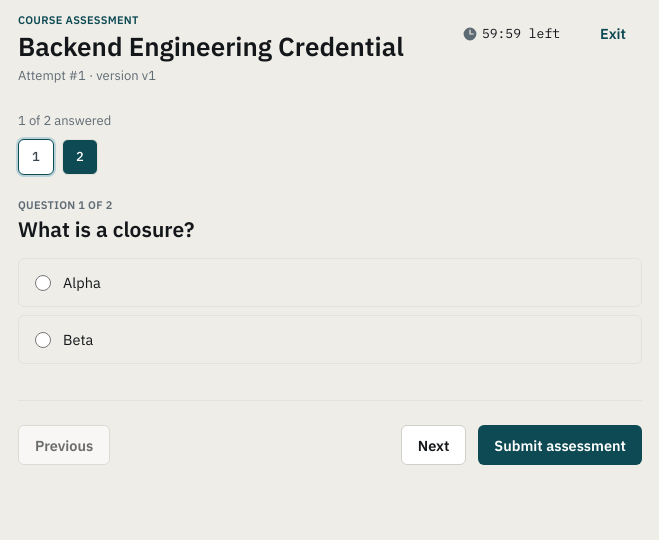
Test: AssessmentAttemptShell (runner) › load and restoration › restores a saved multiple-choice answer (both selections)
The image size is (659, 540).
Expected: the heading "What is a closure?" is shown, [18, 215, 194, 243]
Click the button named "Question 2" at coordinates (80, 157), box [62, 139, 98, 175]
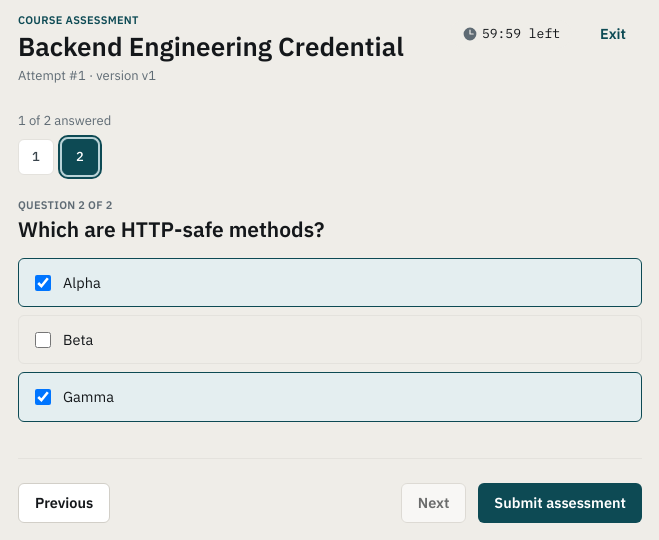
Expected: the checkbox labelled "Beta" is not checked, [35, 332, 51, 348]
Now the checkbox labelled "Alpha" is checked, box [35, 275, 51, 291]
Now the checkbox labelled "Gamma" is checked, box [35, 389, 51, 405]
